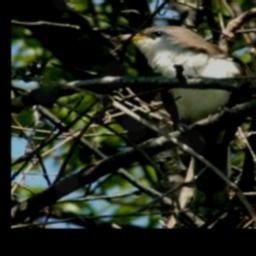Cuckoo: (108, 24, 256, 216)
